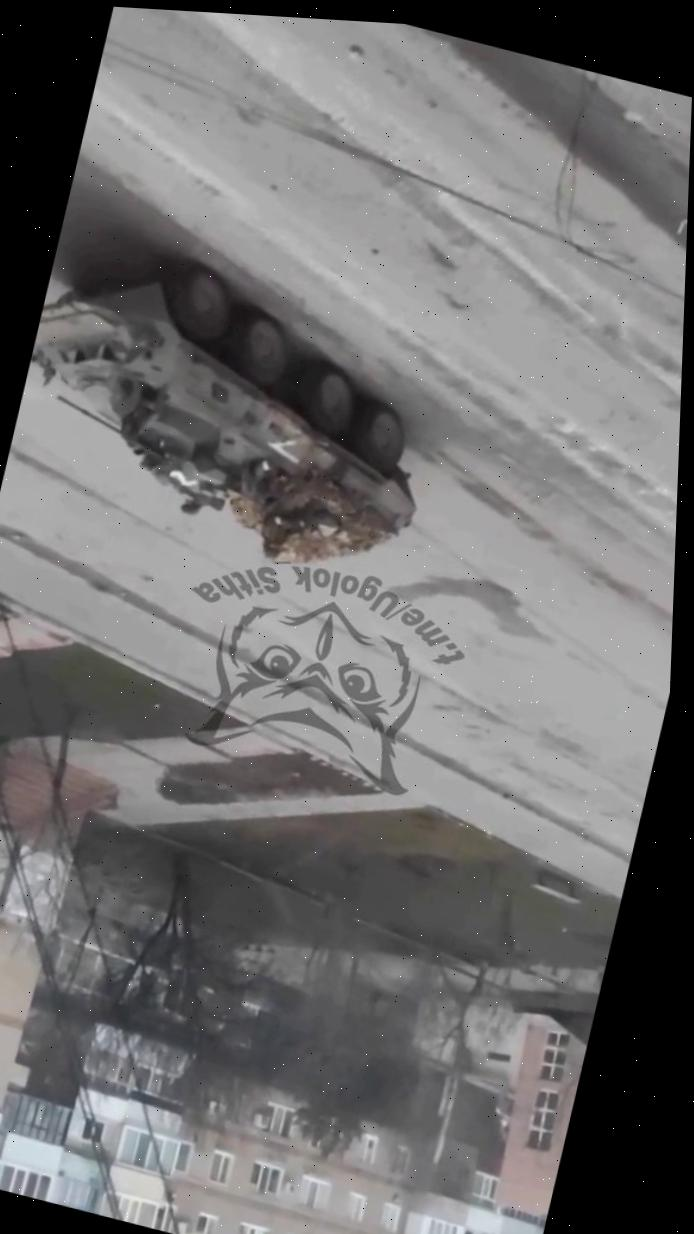tank: (0, 230, 457, 596)
